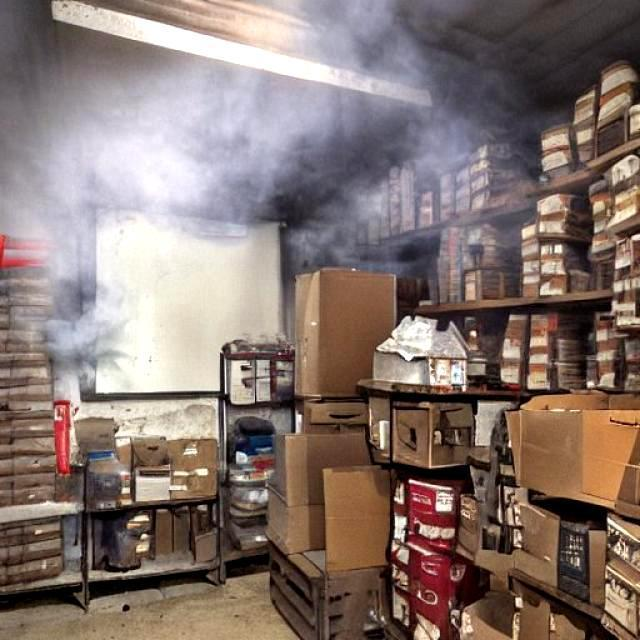Smoke: (0, 0, 567, 365)
